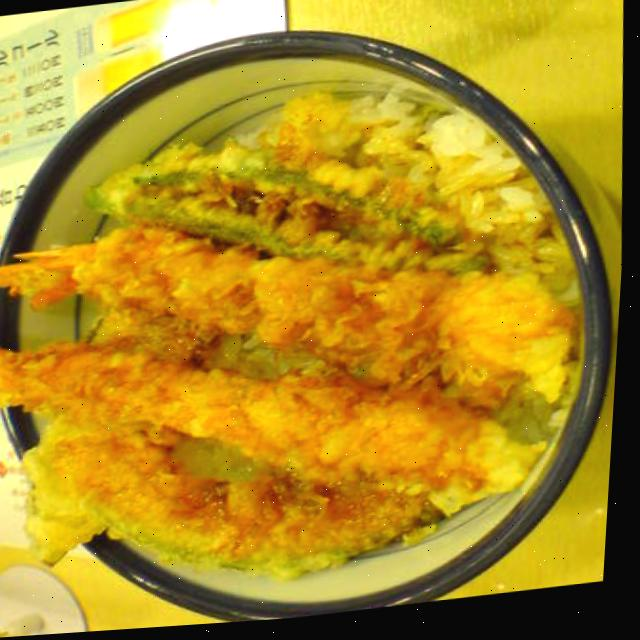熟制海鲜: (0, 6, 638, 640)
